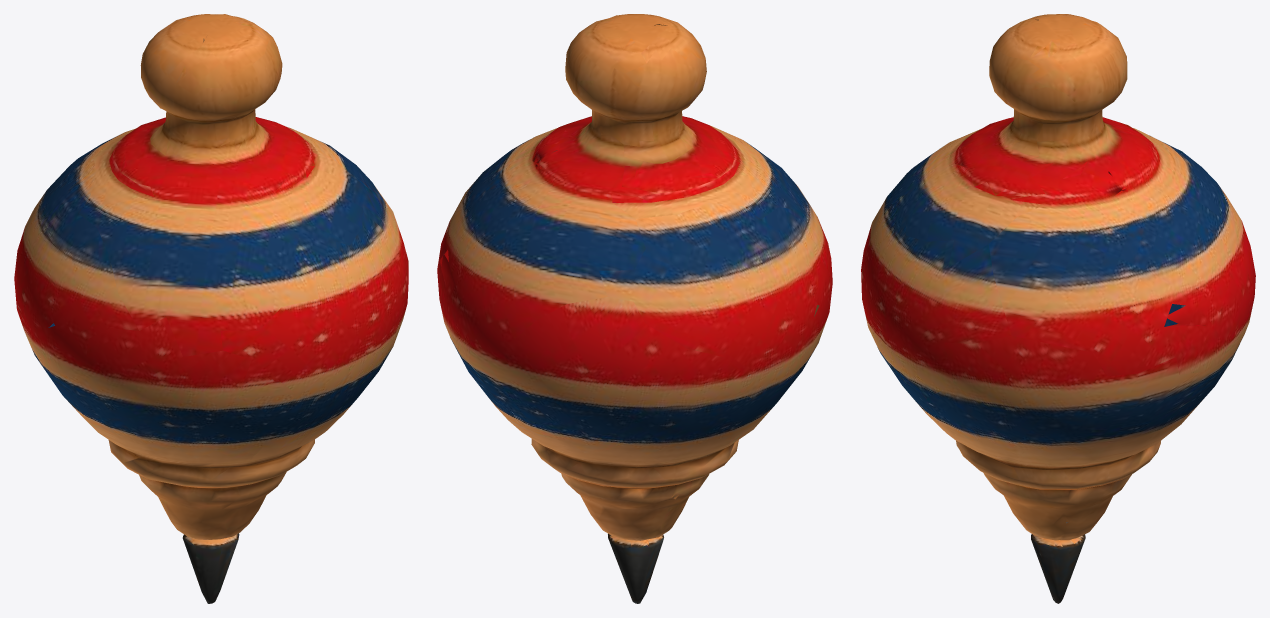
Rendered from trumpo.glb.
The picture shows the model from 3 angles, left to right: view 1: azimuth 30°, elevation 25°; view 2: azimuth 150°, elevation 25°; view 3: azimuth 270°, elevation 25°; orthographic projection.
Parts seen in each view (by area): view 1: Mesh0; view 2: Mesh0; view 3: Mesh0.
Part boxes in pixels (x1=…): Mesh0: x1=14, y1=14, x2=408, y2=603; Mesh0: x1=437, y1=14, x2=832, y2=603; Mesh0: x1=861, y1=14, x2=1255, y2=603.
Size of the model in its own units: 0.6258 by 1 by 0.6221.
Materials: 1 (1 with a texture image).
